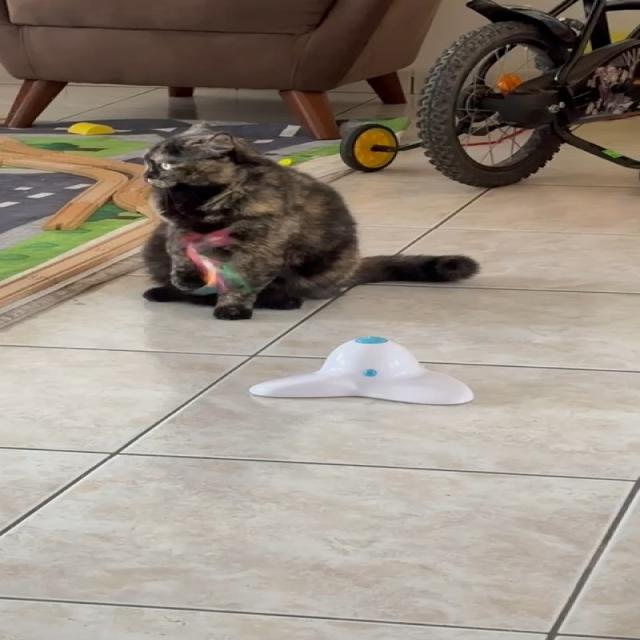authorized: (139, 120, 480, 320)
